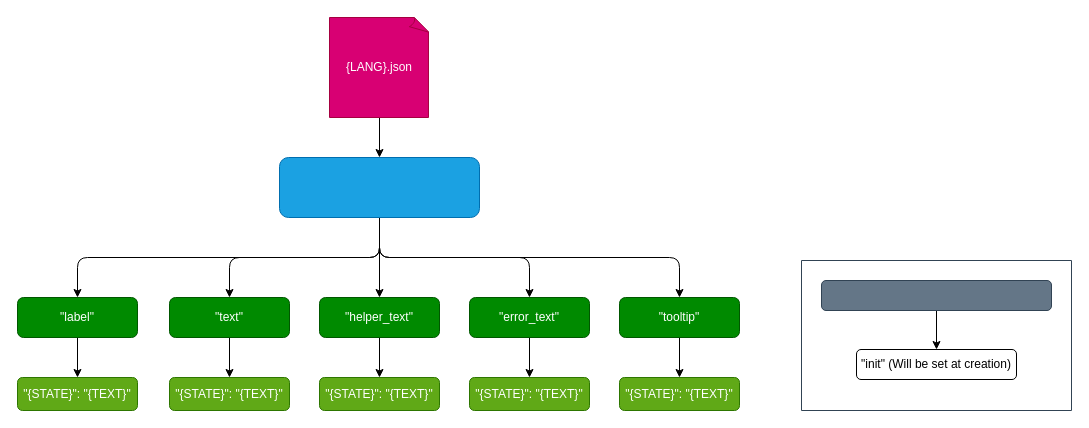
Image size: 1089x428. Some labels were removed from this diagram. The shapes that lost their labels are listed below. From the top down, each one's box as (x1, y1, x2, y2) in pixels, then its label:
(278, 156, 480, 218): "/{ROUTE}/{CONTROL_NAME}"
(820, 280, 1052, 310): Special Keywords in States
